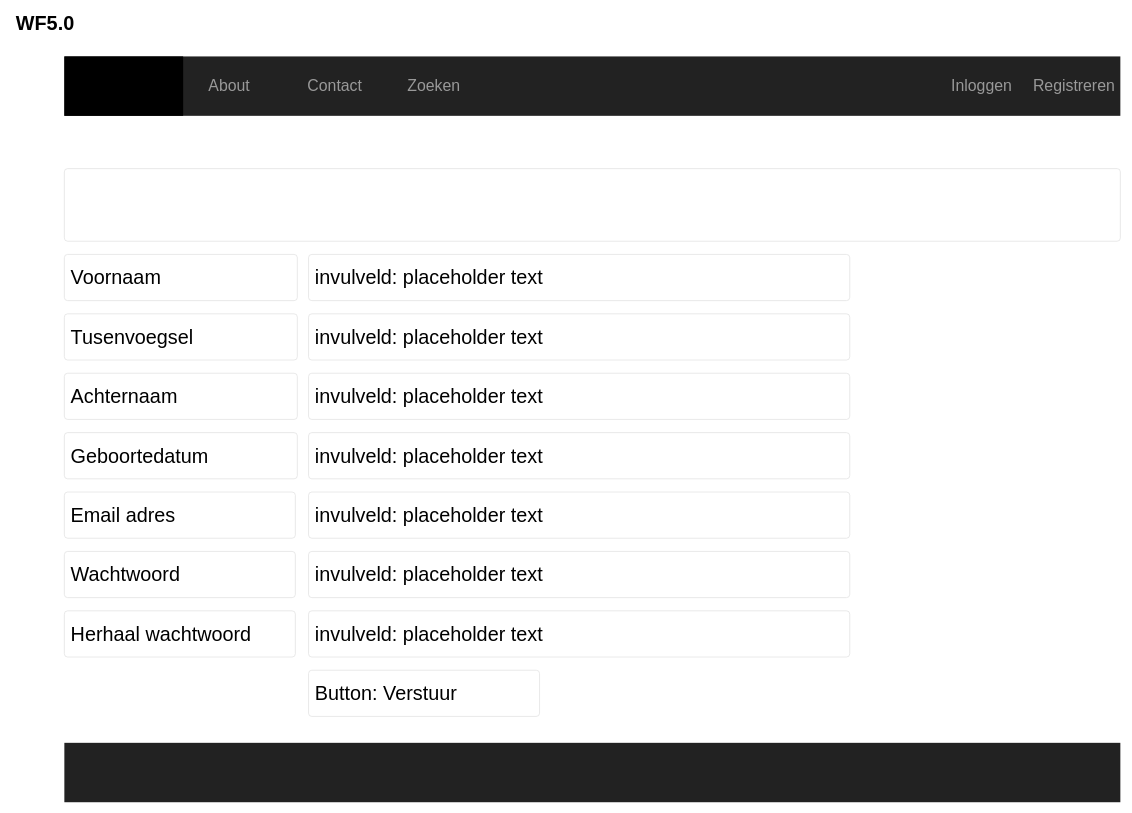
This 1132x813 diagram has some shape labels left out. The centre of each missing label's shape, as x and y in pixels:
Footer tekst: (592,772)
Home: (123,86)
Voer hier uw gegevens in om een registratie-aanvraag in te dienen: (592,204)
